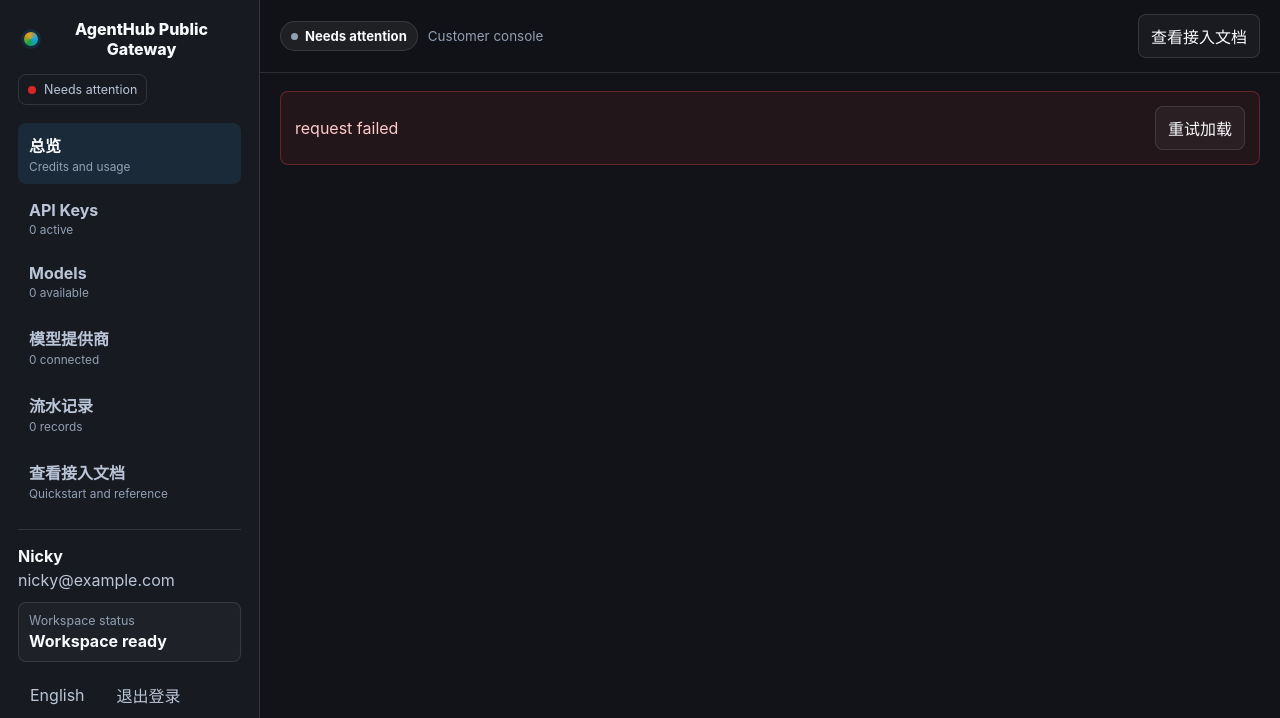
Test: PortalShell › offers a retry path when portal data loading fails
Expected: the text "request failed" is shown, top-left (295, 118), bottom-right (398, 138)
What coordinates should you click on to do the following:
click the button "重试加载"
I would click on:
 (1200, 128)
Its box is top-left (1155, 106), bottom-right (1245, 150).
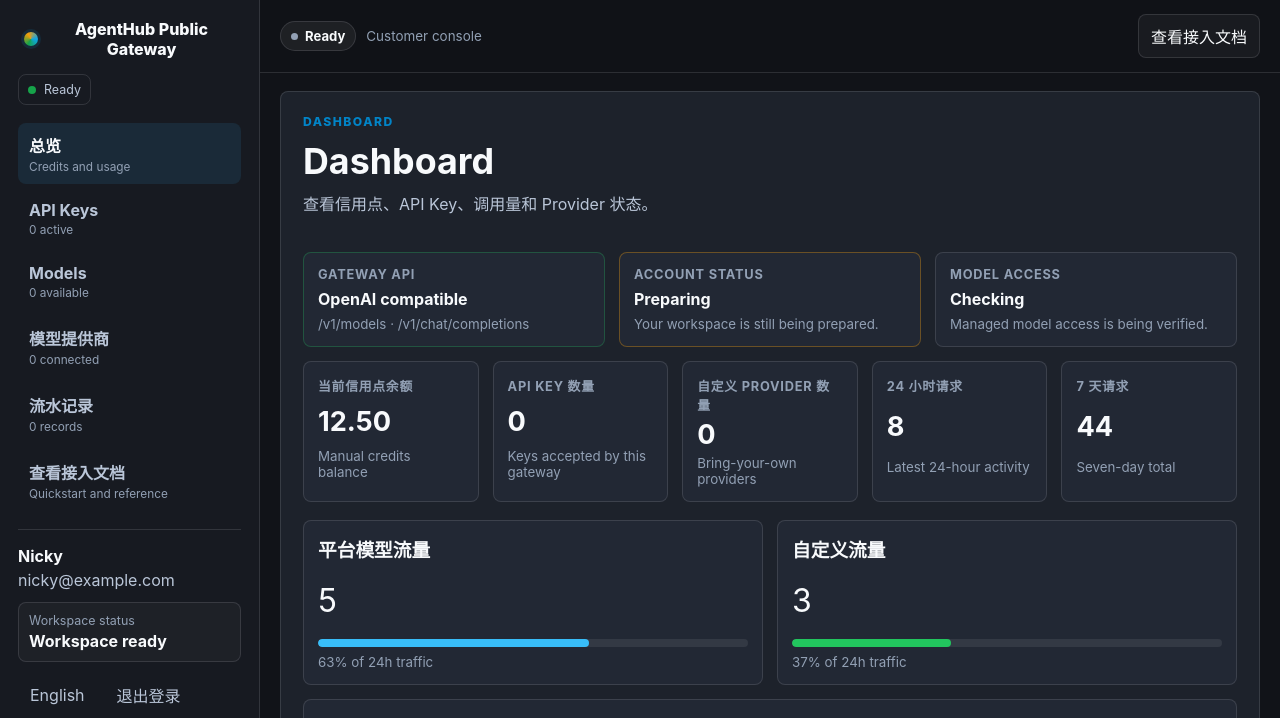
Expected: the heading "Dashboard" is shown, top-left (303, 139), bottom-right (494, 183)
